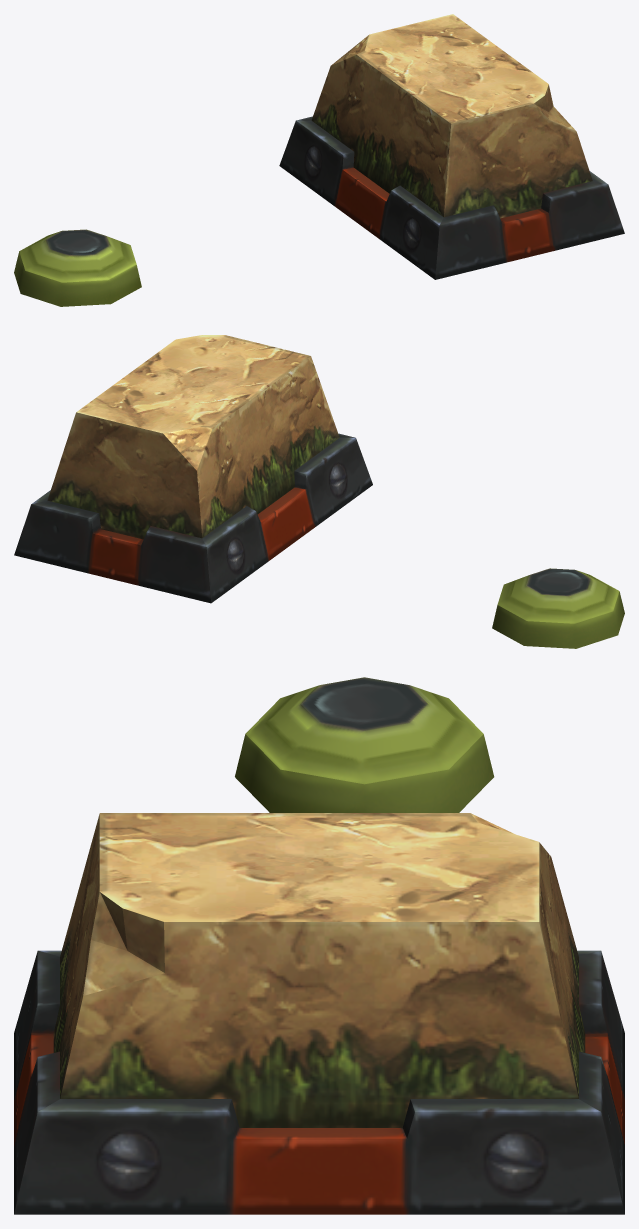
Rendered from dilei&shitou.fbx.
3 renders of one model, top to bottom at view 1: azimuth 30°, elevation 25°; view 2: azimuth 150°, elevation 25°; view 3: azimuth 270°, elevation 25°, orthographic. The views are drawn at different scales.
Parts seen in each view (by area): view 1: shitou, dilei; view 2: shitou, dilei; view 3: shitou, dilei.
Part boxes in pixels (x1,y1,x2,y2): shitou: (279,14,624,279); dilei: (14,229,141,306); shitou: (14,335,372,603); dilei: (492,568,624,648); shitou: (14,813,624,1214); dilei: (235,677,494,812).
Bounding box in the file's own units: 129 × 31.26 × 67.49.
